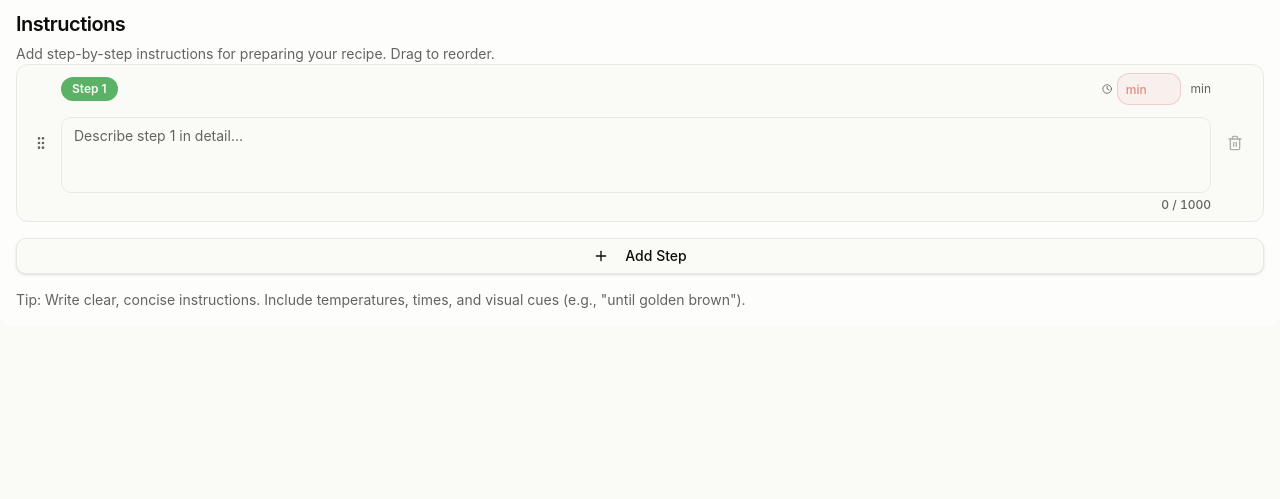
Test: InstructionsStep › Removing steps › should remove step when remove button is clicked
Note: Add second step
Step 1. Click the button "Add Step" → (640, 256), box [16,238,1264,274]
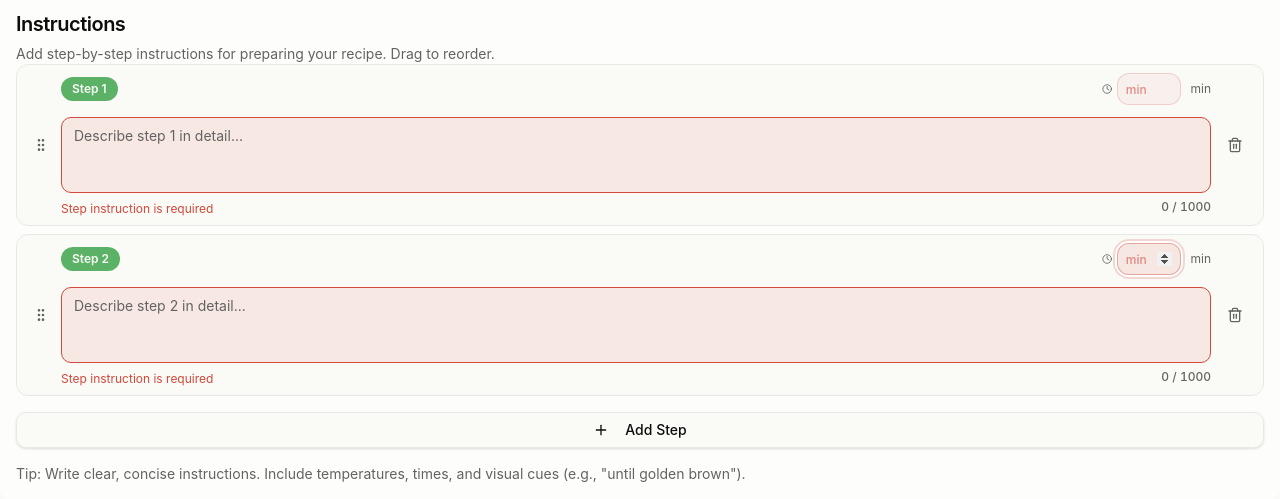
Expected: the text "Step 1" is shown, [61,77,118,101]
Result: the text "Step 2" is shown at [61,247,120,271]
Note: Remove the second step
Step 2. Click the button named "remove step 2" → (1235, 315), box [1219,299,1251,331]
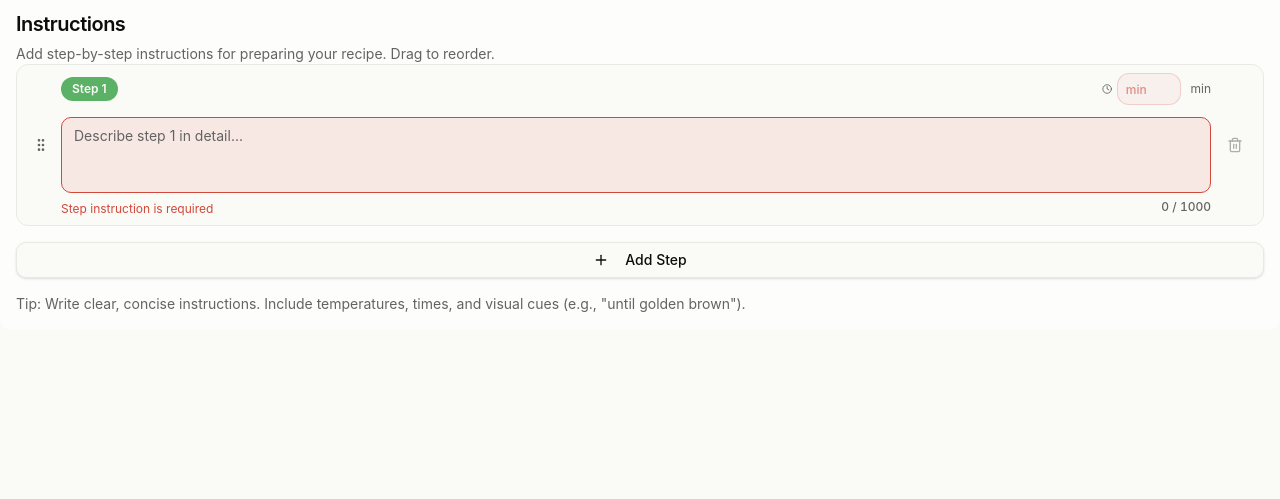
Expected: the text "Step 1" is shown, [61,77,118,101]
Result: the text "Step 2" is gone
